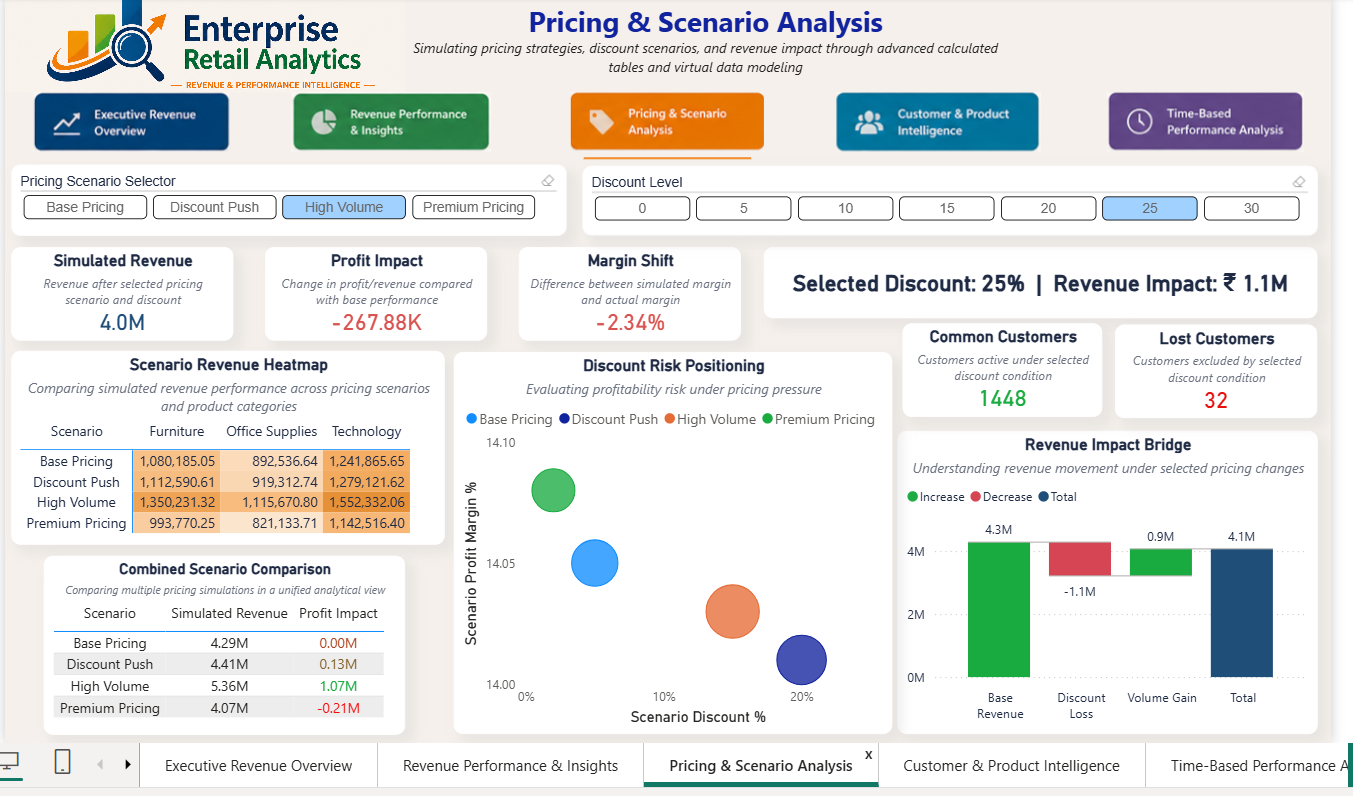

The page's visual inventory and layout, read from the dashboard file:
{"tool":"powerbi","page":{"name":"Pricing & Scenario Analysis","canvas":[1280,720],"ordinal":2},"visuals":[{"type":"image","box":[0,0,386.1,91.7],"z":0},{"type":"textbox","box":[372.8,0,606.8,91.7],"z":1000},{"type":"image","box":[22.9,91.7,197.9,57.9],"z":2000},{"type":"image","box":[273.9,91.7,197.9,57.9],"z":3000},{"type":"image","box":[540.5,91.7,197.9,57.9],"z":4000},{"type":"image","box":[802.3,91.7,197.9,57.9],"z":5000},{"type":"image","box":[1059.3,91.7,197.9,57.9],"z":6000},{"type":"shape","box":[558.6,149.6,161.7,12.1],"z":7000},{"type":"ChicletSlicer1448559807354","title":"Pricing Scenario Selector","fields":{"Category":["Scenario Table.Scenario"]},"box":[6,161.7,535.7,68.8],"z":8000},{"type":"card","fields":{"Values":["Discount Slider.Discount Impact Text"]},"box":[732.3,241.3,534.5,68.8],"z":10000},{"type":"card","title":"Simulated Revenue","fields":{"Values":["Scenario Table.Simulated Revenue"]},"box":[6,241.3,214.7,90.5],"z":12000},{"type":"card","title":"Profit Impact","fields":{"Values":["Scenario Table.Profit Impact"]},"box":[250.9,241.3,214.7,90.5],"z":13000},{"type":"card","title":"Margin Shift","fields":{"Values":["Scenario Table.Margin Shift"]},"box":[495.8,241.3,214.7,90.5],"z":14000},{"type":"ChicletSlicer1448559807354","title":"Pricing Scenario Selector","fields":{"Category":["Discount Slider.Value"]},"box":[557.4,162.9,709.4,67.6],"z":15002},{"type":"pivotTable","title":"Scenario Revenue Heatmap","fields":{"Columns":["Secnario Category Matrix.Category"],"Rows":["Secnario Category Matrix.Scenario"],"Values":["Scenario Category Matrix.Matrix Simulated Revenue"]},"box":[6,341.4,418.6,187],"z":15003},{"type":"waterfallChart","title":"Revenue Impact Bridge","fields":{"Category":["Revenue Bridge Table.Step"],"Y":["Revenue Bridge Table.Revenue Bridge Value"]},"box":[861.4,418.6,405.4,293.2],"z":15005},{"type":"scatterChart","title":"Discount Risk Positioning","fields":{"Series":["Scenario Scatter Table.Scenario"],"Size":["Scenario Scatter Table.Scenario Revenue Size"],"X":["Scenario Scatter Table.Scenario Discount %"],"Y":["Scenario Scatter Table.Scenario Profit Margin %"]},"box":[433.1,342.6,423.5,369.2],"z":15006},{"type":"card","title":"Common Customers","fields":{"Values":["All Measures Table.Common Customers"]},"box":[866.2,314.9,193,90.5],"z":15007},{"type":"card","title":"Lost Customers","fields":{"Values":["All Measures Table.Lost Customers"]},"box":[1071.3,316.1,195.4,90.5],"z":15008},{"type":"tableEx","title":"Combined Scenario Comparison","fields":{"Values":["Combined Scenario Comparison.Scenario","Sum(Combined Scenario Comparison.Simulated Revenue)","Sum(Combined Scenario Comparison.Profit Impact)"]},"box":[37.4,539.3,348.7,172.5],"z":15009},{"type":"actionButton","box":[275.1,91.7,196.6,57.9],"z":15010},{"type":"actionButton","box":[24.1,91.7,196.6,57.9],"z":15011},{"type":"actionButton","box":[803.5,91.7,196.6,57.9],"z":15012},{"type":"actionButton","box":[1060.5,91.7,196.6,57.9],"z":15013}]}

Visuals, with their boxes on the page's 1280x720 design canvas (x1, y1, x2, y2). These are canvas units, not pixel positions in the 1353x796 screenshot, which may show the page scaled, cropped or inside an application window:
image: x1=0, y1=0, x2=386, y2=92
textbox: x1=373, y1=0, x2=980, y2=92
image: x1=23, y1=92, x2=221, y2=150
image: x1=274, y1=92, x2=472, y2=150
image: x1=540, y1=92, x2=738, y2=150
image: x1=802, y1=92, x2=1000, y2=150
image: x1=1059, y1=92, x2=1257, y2=150
shape: x1=559, y1=150, x2=720, y2=162
"Pricing Scenario Selector" ChicletSlicer1448559807354: x1=6, y1=162, x2=542, y2=230
card - Discount Slider.Discount Impact Text: x1=732, y1=241, x2=1267, y2=310
"Simulated Revenue" card: x1=6, y1=241, x2=221, y2=332
"Profit Impact" card: x1=251, y1=241, x2=466, y2=332
"Margin Shift" card: x1=496, y1=241, x2=710, y2=332
"Pricing Scenario Selector" ChicletSlicer1448559807354: x1=557, y1=163, x2=1267, y2=230
"Scenario Revenue Heatmap" pivotTable: x1=6, y1=341, x2=425, y2=528
"Revenue Impact Bridge" waterfallChart: x1=861, y1=419, x2=1267, y2=712
"Discount Risk Positioning" scatterChart: x1=433, y1=343, x2=857, y2=712
"Common Customers" card: x1=866, y1=315, x2=1059, y2=405
"Lost Customers" card: x1=1071, y1=316, x2=1267, y2=407
"Combined Scenario Comparison" tableEx: x1=37, y1=539, x2=386, y2=712
actionButton: x1=275, y1=92, x2=472, y2=150
actionButton: x1=24, y1=92, x2=221, y2=150
actionButton: x1=804, y1=92, x2=1000, y2=150
actionButton: x1=1060, y1=92, x2=1257, y2=150
